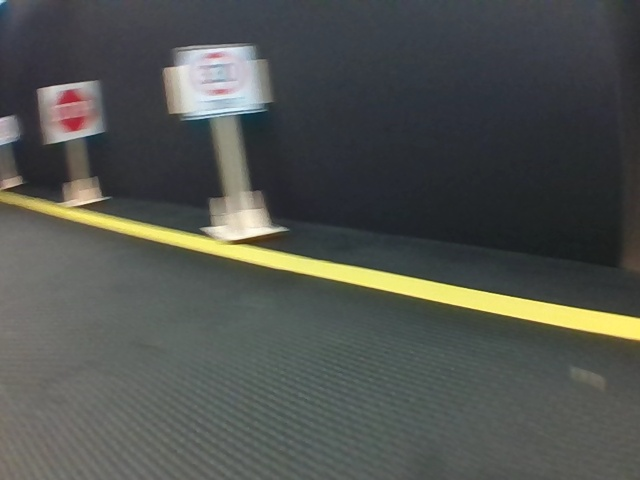30: (179, 45, 260, 115)
stop: (40, 86, 99, 135)
